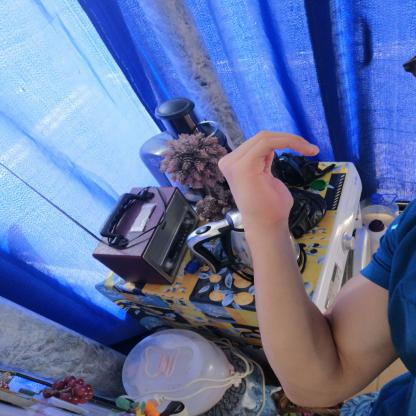HAA: (204, 122, 330, 229)
